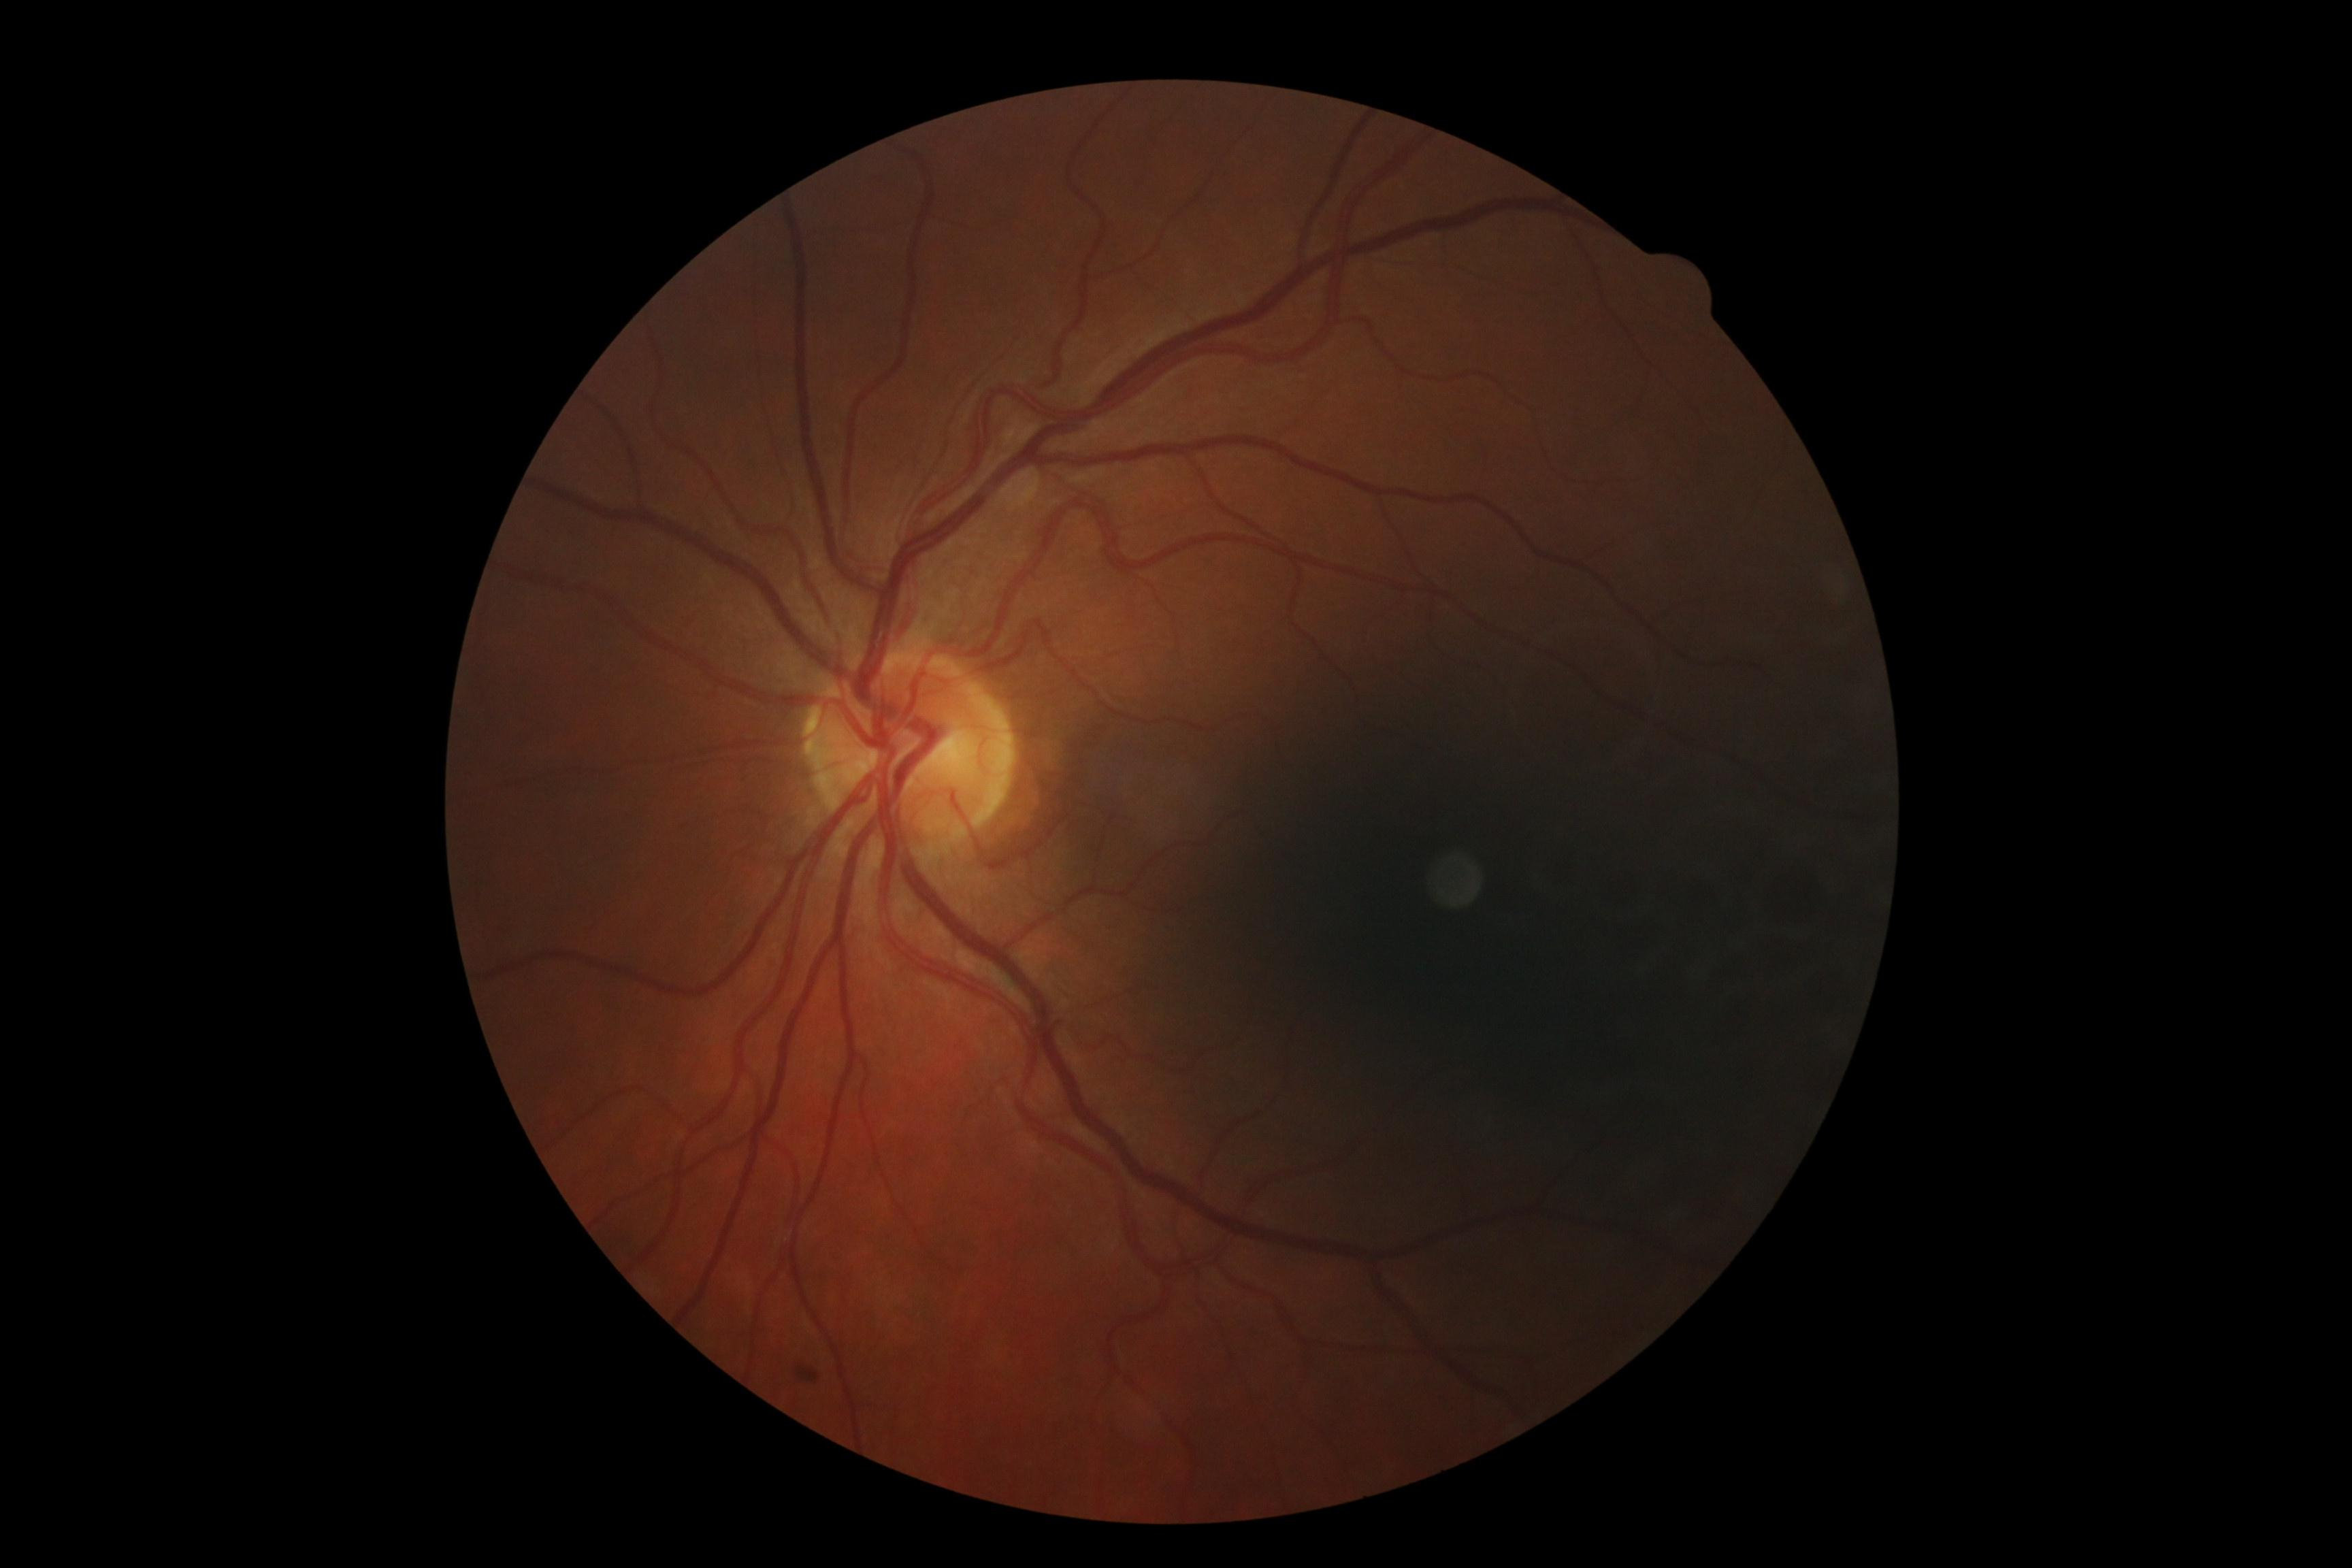Optic-nerve: (738, 632, 1046, 891)
macula: (1236, 747, 1552, 1013)
notch: (1615, 228, 1732, 336)
